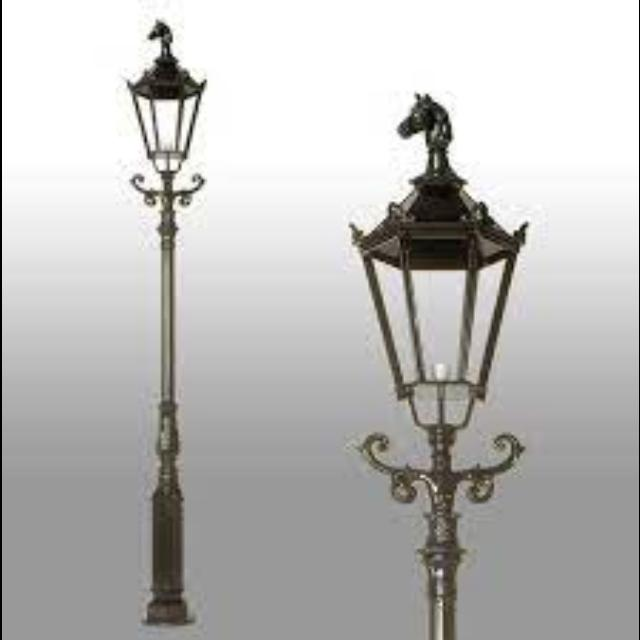Street-Lamp: (113, 12, 209, 640)
